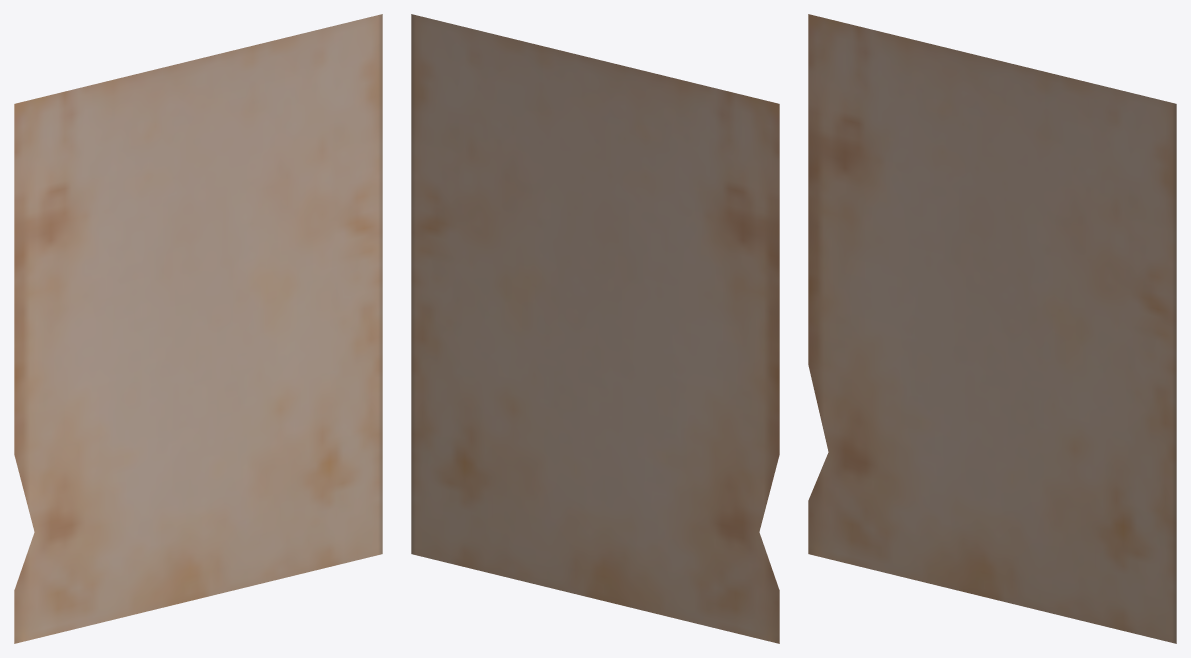
The model's file is Paper_B.fbx.
3 renders of one model, left to right at view 1: azimuth 30°, elevation 25°; view 2: azimuth 150°, elevation 25°; view 3: azimuth 330°, elevation 25°, orthographic.
Parts seen in each view (by area): view 1: Paper_B; view 2: Paper_B; view 3: Paper_B.
Part boxes in pixels (bbox=[...]): Paper_B: bbox=[14, 14, 382, 643]; Paper_B: bbox=[411, 14, 779, 643]; Paper_B: bbox=[808, 14, 1176, 643].
Bounding box in the file's own units: 0.3325 × 0.4656 × 2.85e-17.
